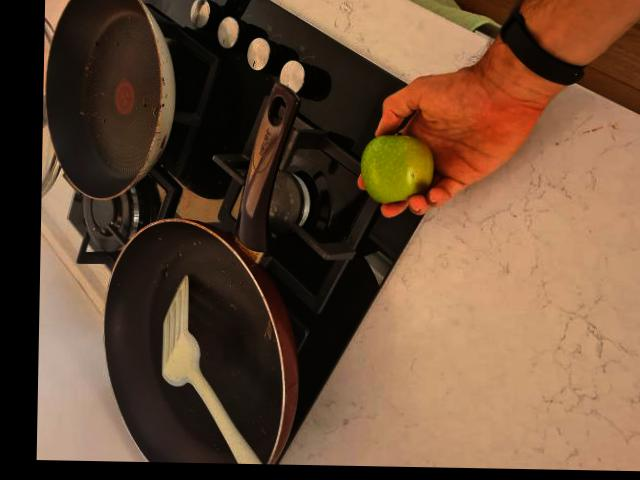apple: (359, 127, 447, 214)
